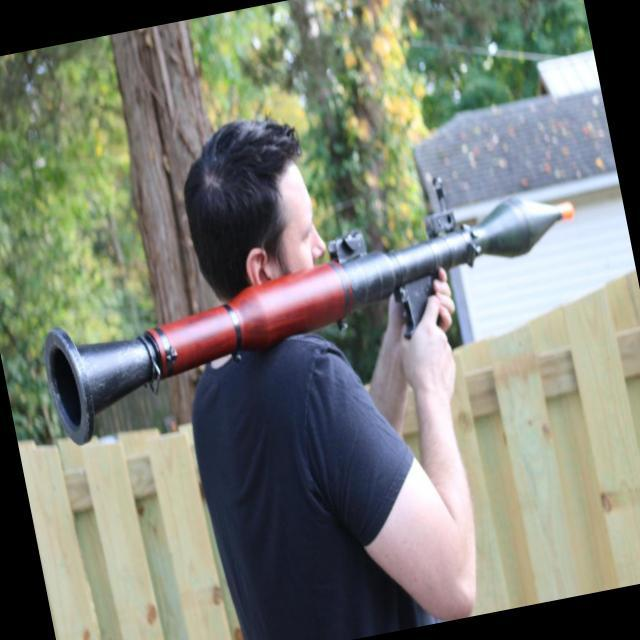rocket: (19, 188, 602, 452)
